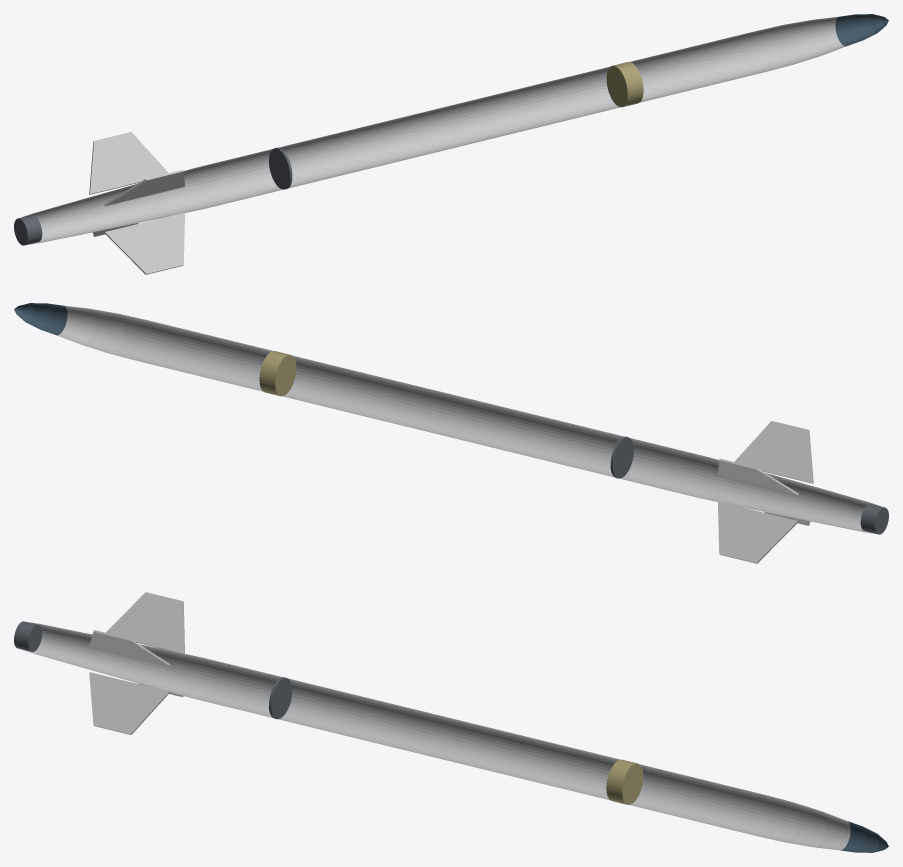
Rendered from aim9x_missile.glb.
3 views of the same model, one above another, from view 1: azimuth 30°, elevation 25°; view 2: azimuth 150°, elevation 25°; view 3: azimuth 330°, elevation 25° (orthographic).
Parts seen in each view (by area): view 1: geometry_0; view 2: geometry_0; view 3: geometry_0.
Boxes of the visible parts, x1,y1,x2,y2 form: geometry_0: (14,14,888,274); geometry_0: (14,303,888,563); geometry_0: (14,592,888,852).
Bounding box in the file's own units: 3.02 × 0.3203 × 0.3203.
